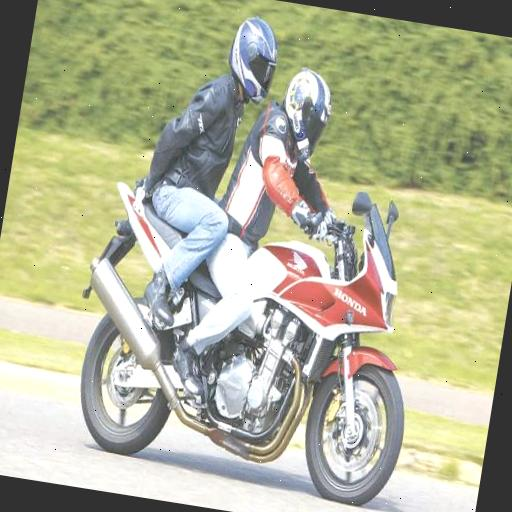helmet: (194, 22, 460, 504)
